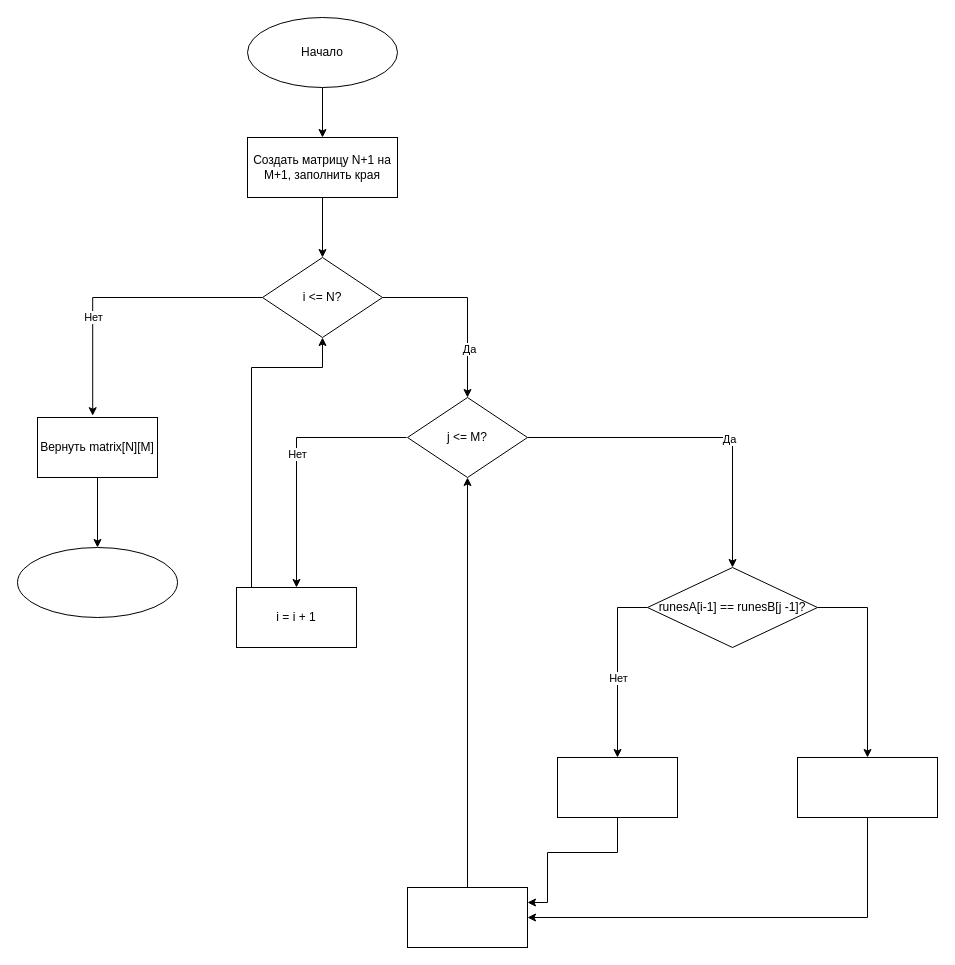
The diagram is 955 pixels wide and 965 high, and some of its shapes have lost their labels. Each missing label, with the centre of its shape:
"j = j + 1" goes at [467,917].
"matrix[i][j] = min(сверху, слева, по диагонали) + 1" goes at [617,787].
"matrix[i][j] = runesB[j - 1]" goes at [867,787].
"Конец" goes at [97,582].
